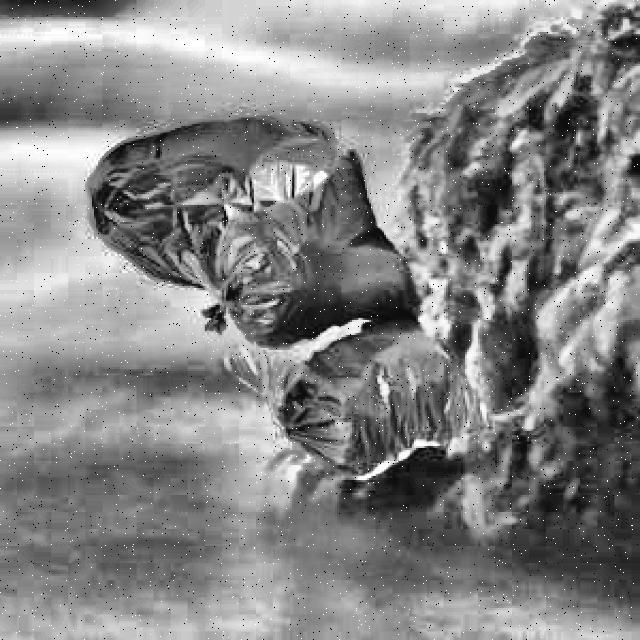Trashbag: (209, 139, 419, 344), (281, 315, 501, 478), (77, 102, 229, 302)
